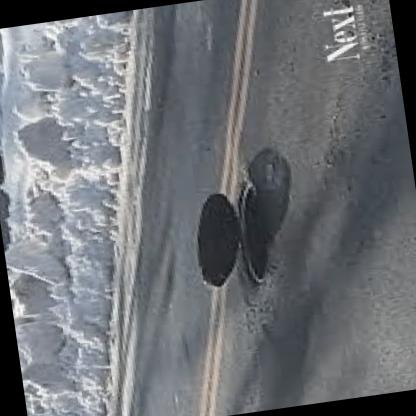manholes: (147, 127, 319, 311)
